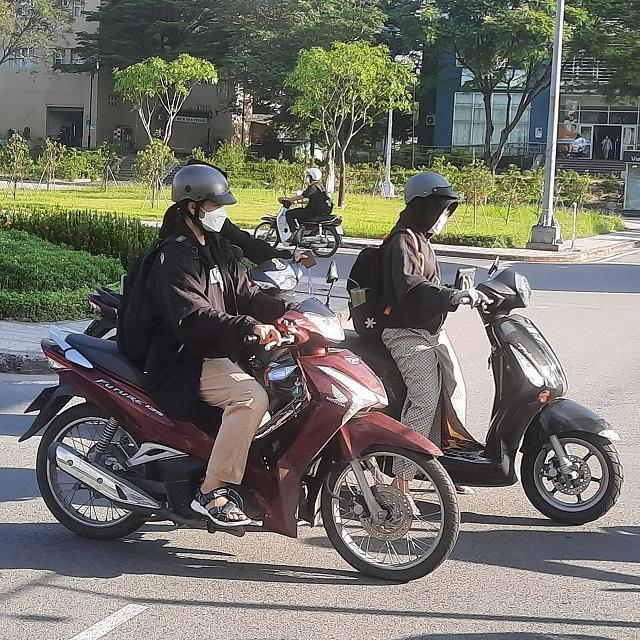Helmet: (168, 163, 236, 239), (398, 165, 464, 232)
